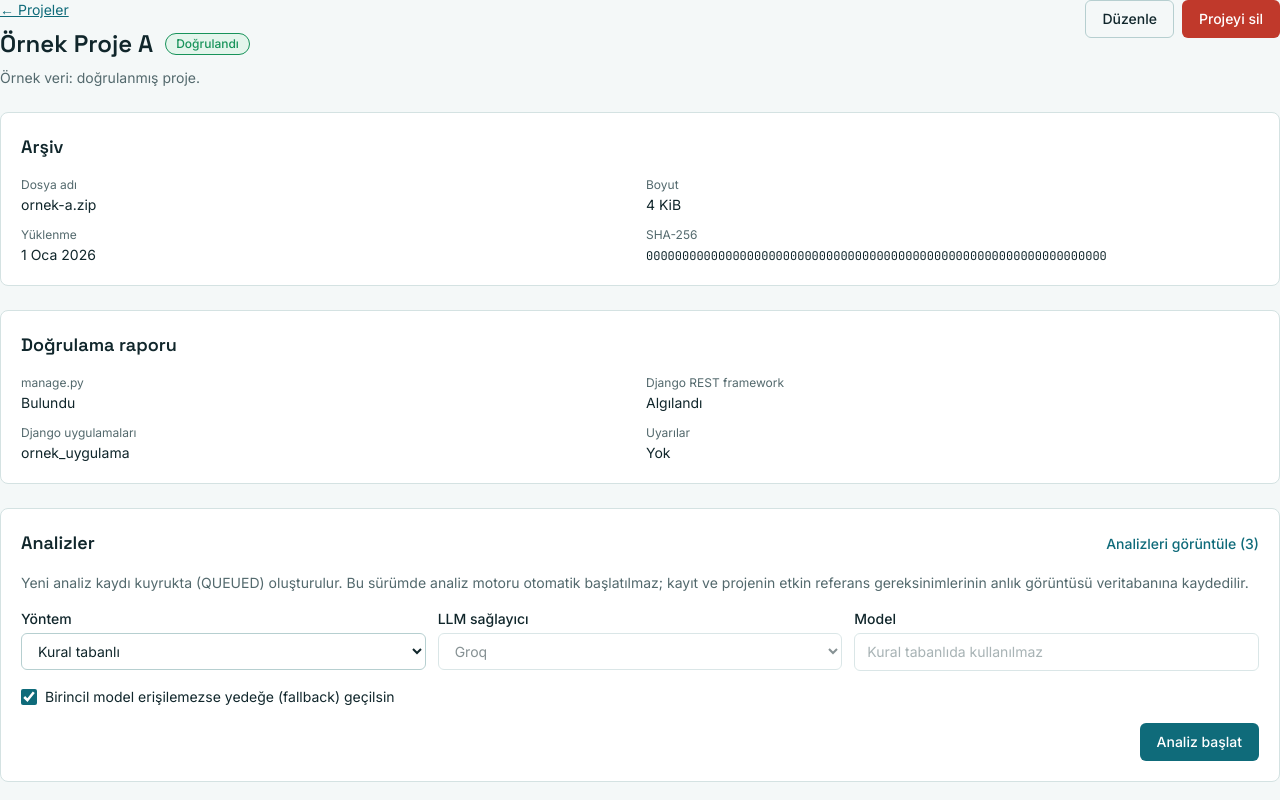
Test: detay: silme onayı kırmızı (danger) ve 409 durumunu gösterir
The width and height of the screenshot is (1280, 800).
Click the button "Projeyi sil".
click(1231, 19)  # box [1182,0,1279,38]
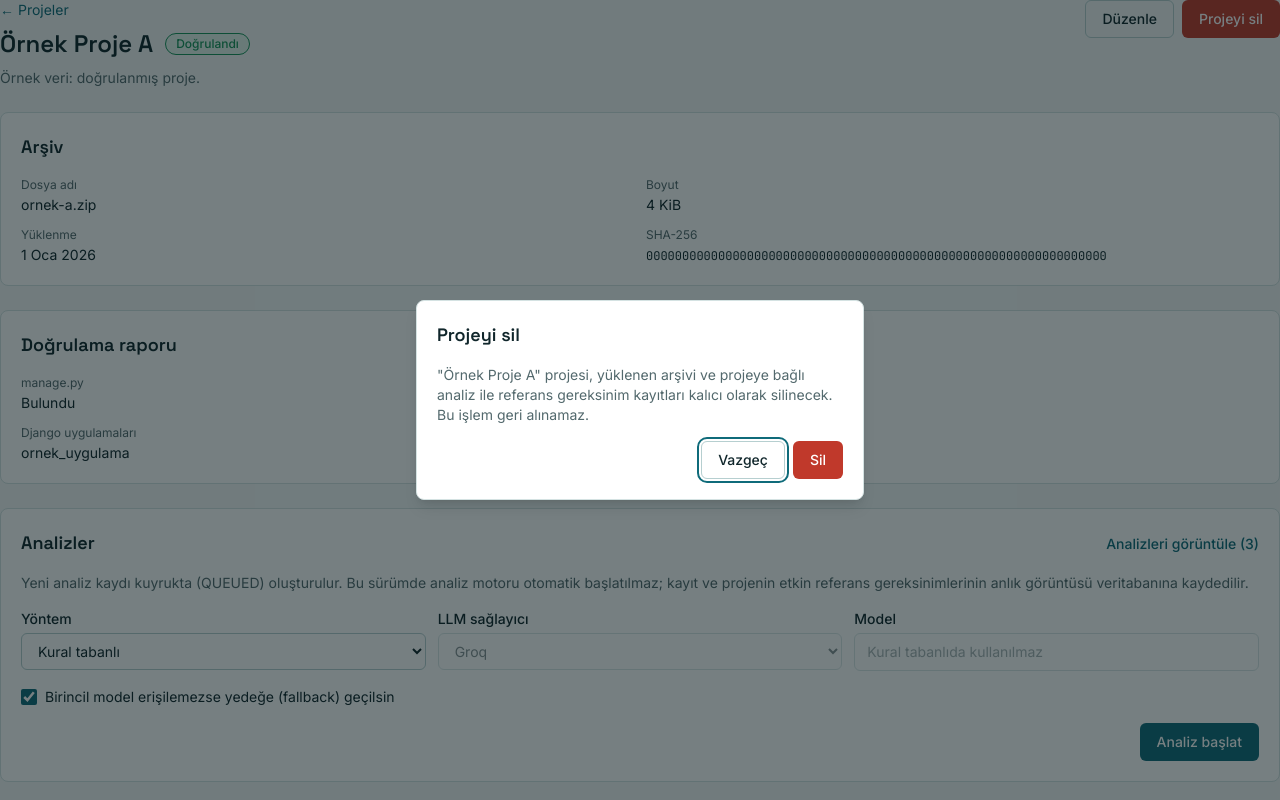
Click the button "Sil".
click(818, 460)  # box [793,441,843,479]
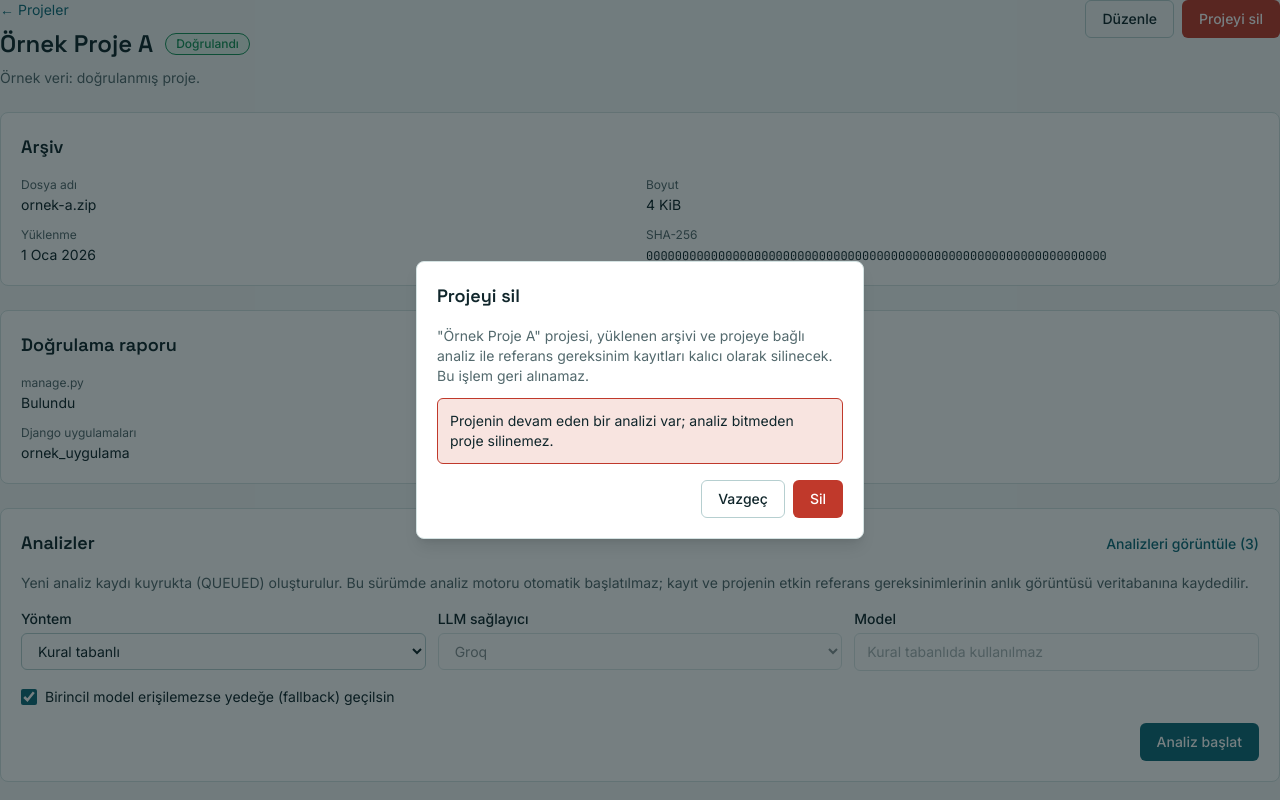
Now the text "Projenin devam eden bir analizi var; analiz bitmeden proje silinemez." is shown, box [437,398,843,464]
